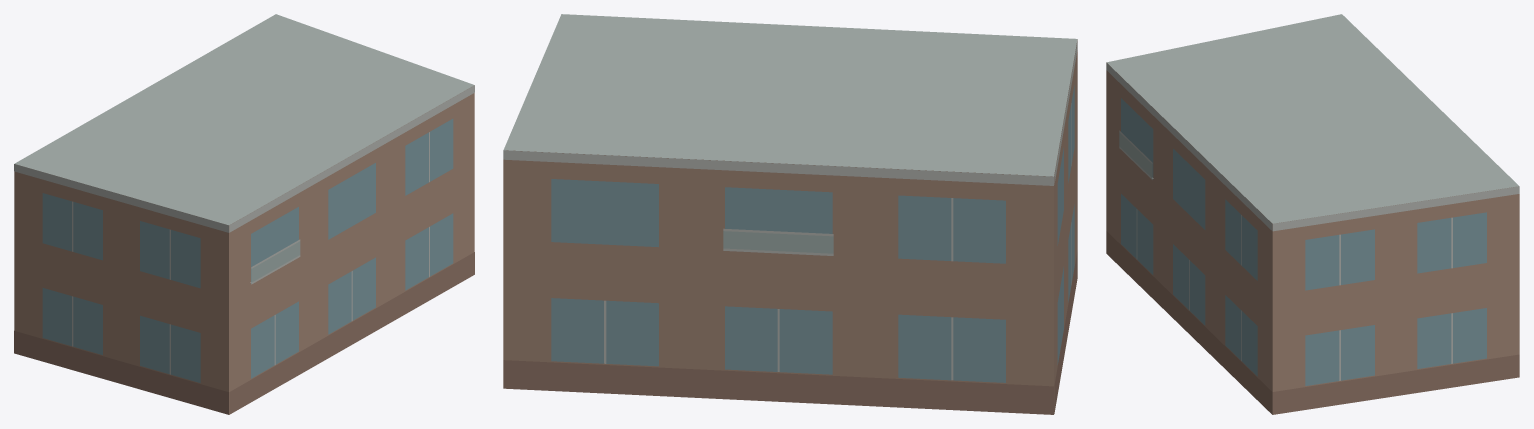
Rendered from survey-upis-32889460.glb.
3 views of the same model, side by side, from view 1: azimuth 30°, elevation 25°; view 2: azimuth 150°, elevation 25°; view 3: azimuth 270°, elevation 25° (orthographic). The views are drawn at different scales.
Parts seen in each view (by area): view 1: survey-upis-32889460.tmp; view 2: survey-upis-32889460.tmp; view 3: survey-upis-32889460.tmp.
Part boxes in pixels (x1,y1,x2,y2): survey-upis-32889460.tmp: (14, 14, 474, 414); survey-upis-32889460.tmp: (503, 14, 1077, 414); survey-upis-32889460.tmp: (1106, 14, 1519, 414).
Bounding box in the file's own units: 14.37 × 6.1 × 11.96.
